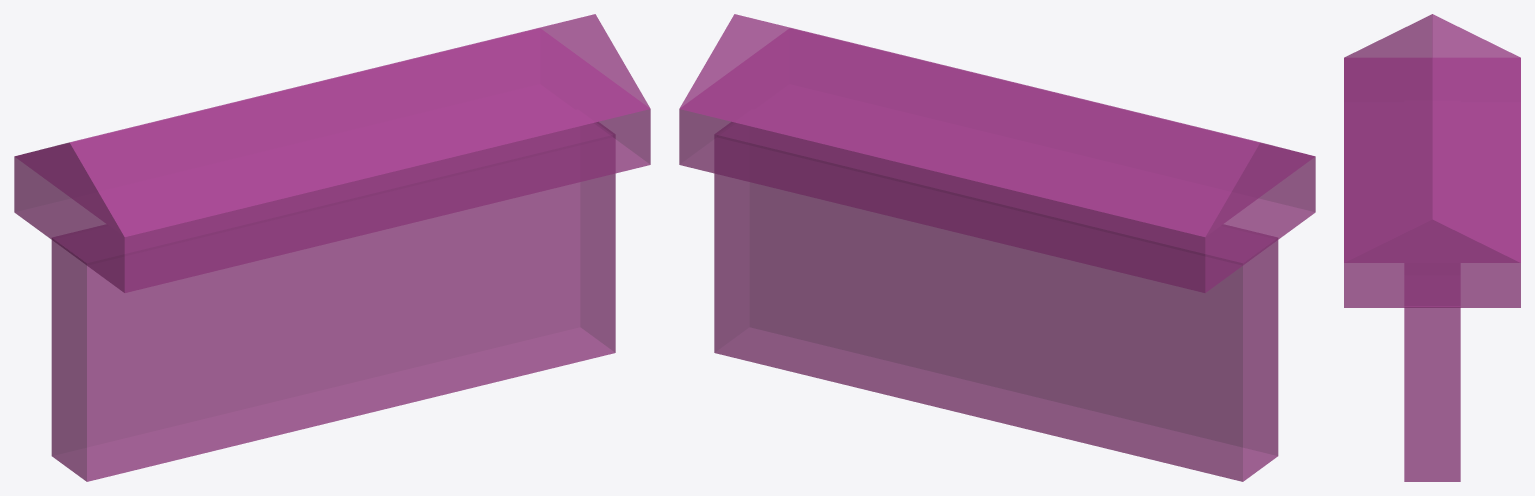
File: SM_Bld_Fence_Dobei_Double_02_Collision_01.fbx
3 renders of one model, left to right at view 1: azimuth 30°, elevation 25°; view 2: azimuth 150°, elevation 25°; view 3: azimuth 270°, elevation 25°, orthographic. The views are drawn at different scales.
Visible parts, largest first — view 1: SM_Bld_Fence_Dobei_Double_02_Collision_01; view 2: SM_Bld_Fence_Dobei_Double_02_Collision_01; view 3: SM_Bld_Fence_Dobei_Double_02_Collision_01.
Part boxes in pixels (x1,y1,x2,y2): SM_Bld_Fence_Dobei_Double_02_Collision_01: (14,14,650,481); SM_Bld_Fence_Dobei_Double_02_Collision_01: (679,14,1315,481); SM_Bld_Fence_Dobei_Double_02_Collision_01: (1344,14,1520,481).
Size of the model in its own units: 510 by 301 by 185.
